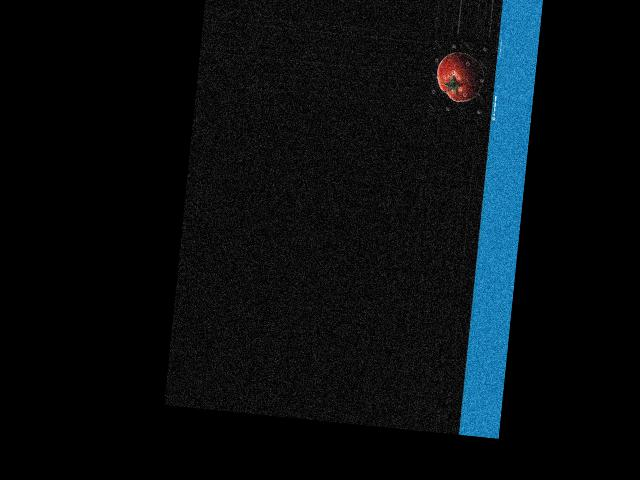tomato: (434, 49, 486, 104)
